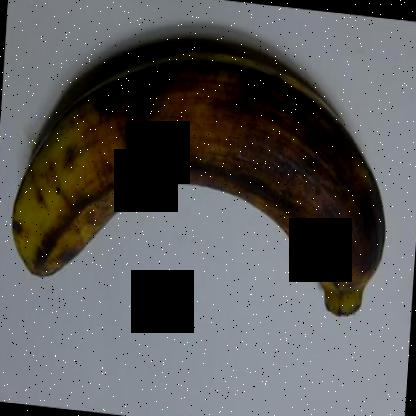overripe: (9, 54, 386, 331)
